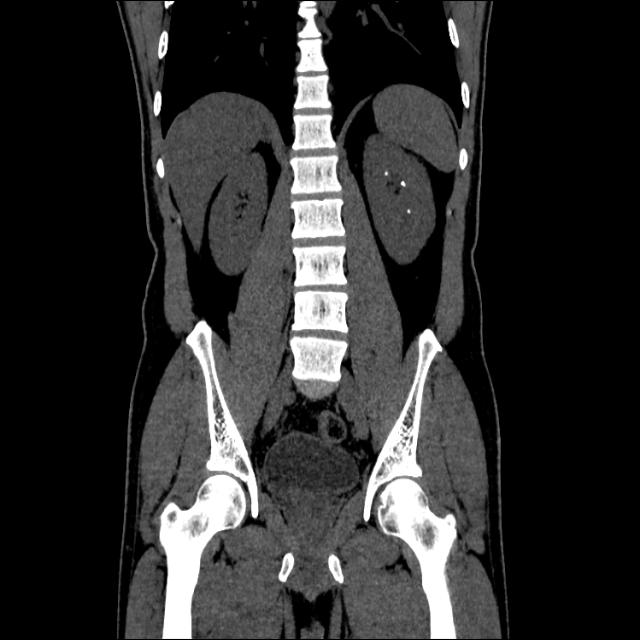kidneystone: (400, 180, 406, 187), (384, 169, 389, 176)
